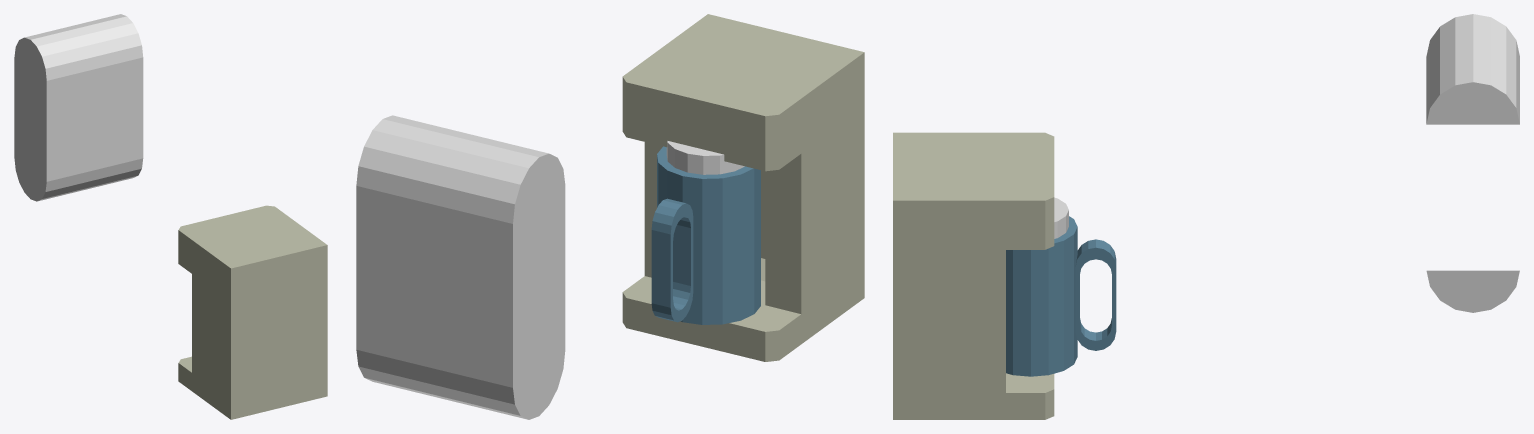
Rendered from kaffeautomatGLTF.gltf.
3 views of the same model, side by side, from view 1: azimuth 30°, elevation 25°; view 2: azimuth 150°, elevation 25°; view 3: azimuth 270°, elevation 25° (orthographic). The views are drawn at different scales.
Parts seen in each view (by area): view 1: automat, 11111; view 2: 11111, automat, tasse, griff, tasse.cut; view 3: automat, 11111, tasse, griff.
Boxes of the visible parts, x1,y1,x2,y2 form: automat: (178, 205, 327, 419); 11111: (14, 14, 143, 201); 11111: (356, 115, 565, 419); automat: (622, 14, 864, 361); tasse: (657, 146, 760, 324); griff: (651, 198, 693, 322); tasse.cut: (666, 141, 744, 174); automat: (893, 132, 1054, 419); 11111: (1426, 14, 1519, 312); tasse: (1006, 216, 1077, 376); griff: (1075, 239, 1116, 350).
Size of the model in its own units: 2 by 4.62 by 7.78.
